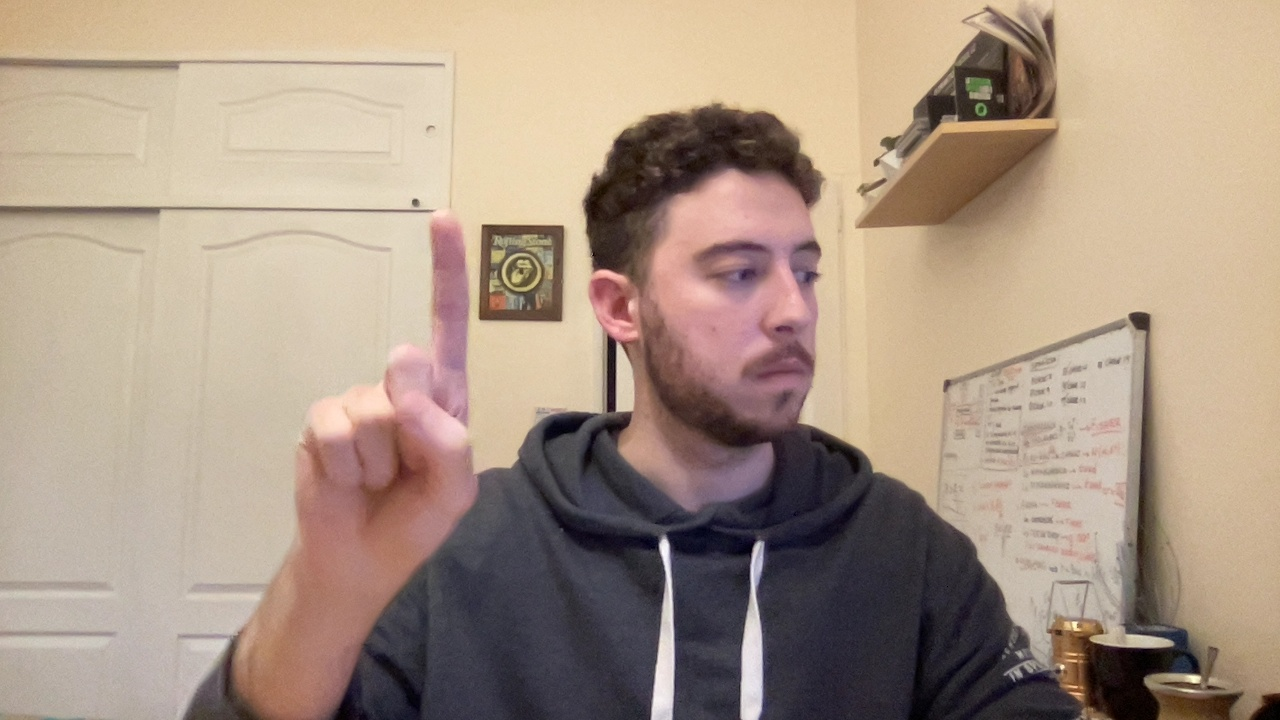indice: (253, 198, 514, 597)
